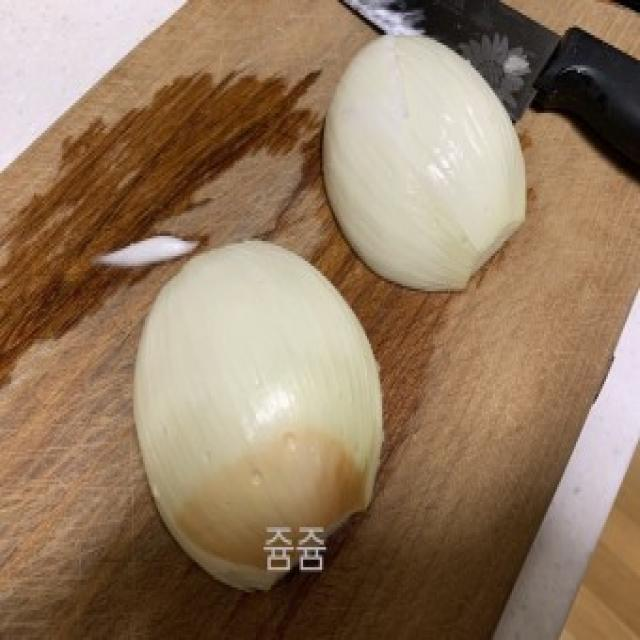onion: (132, 236, 396, 588), (312, 20, 534, 318)
